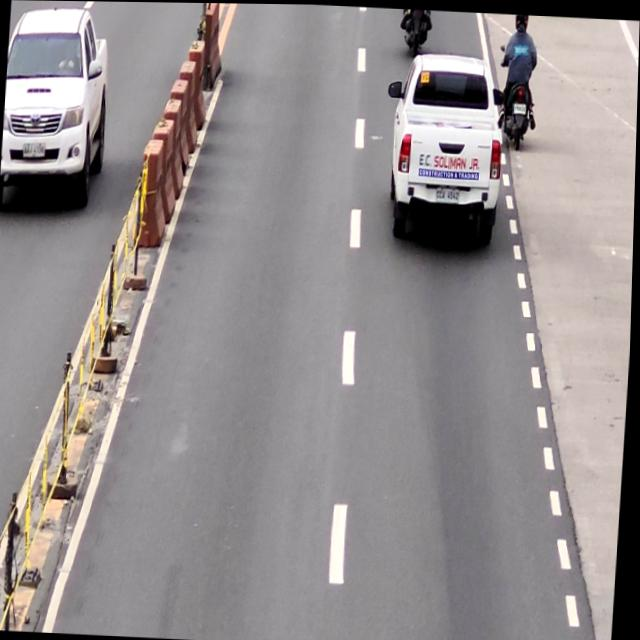Car: (380, 48, 509, 248)
License-Plate: (436, 183, 462, 201), (514, 101, 528, 113)
Motorcycle: (494, 41, 539, 148), (398, 7, 432, 60)
